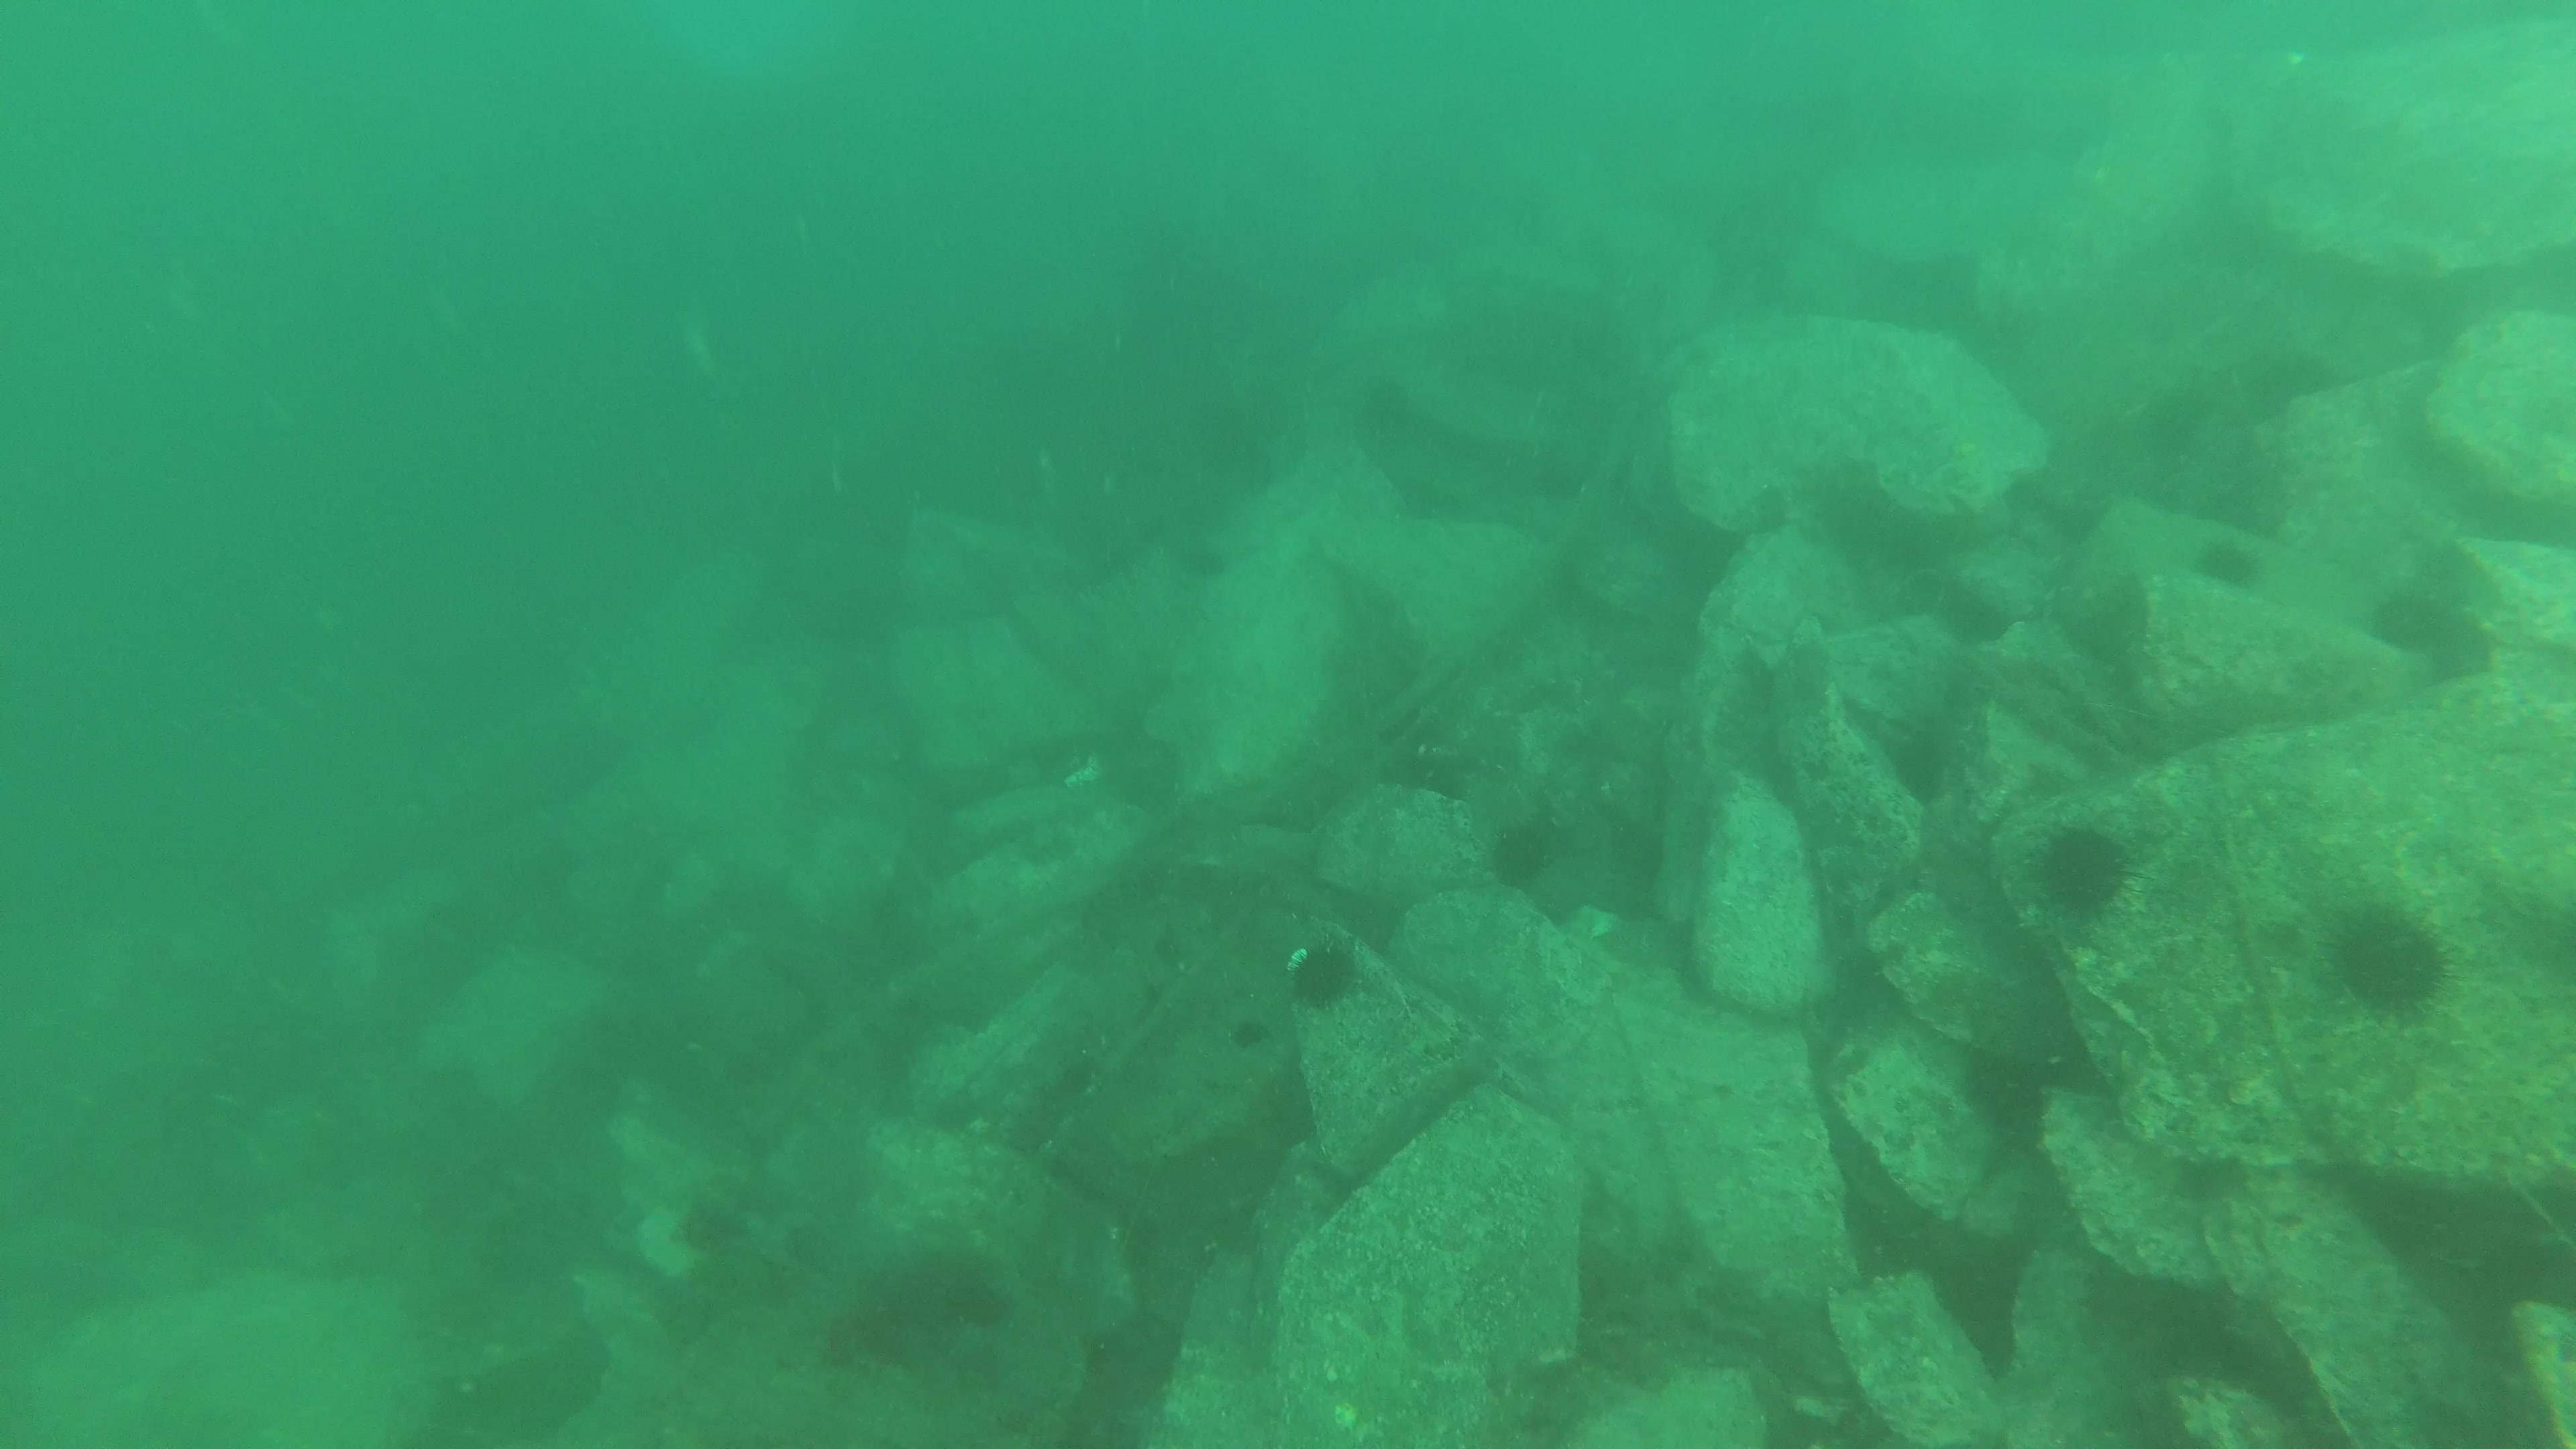echinus: (2318, 892, 2463, 1024), (2019, 814, 2146, 924), (1962, 1044, 2052, 1162), (1481, 812, 1580, 892), (1281, 931, 1361, 1005), (2357, 587, 2445, 653), (2183, 522, 2256, 589)
